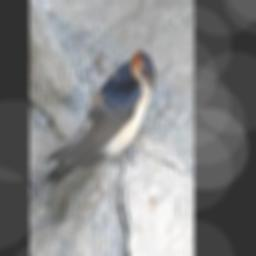Swallow: (29, 51, 156, 200)
